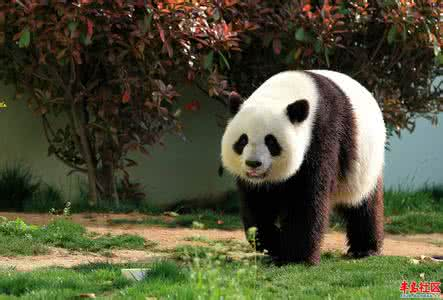panda: (218, 60, 386, 267)
